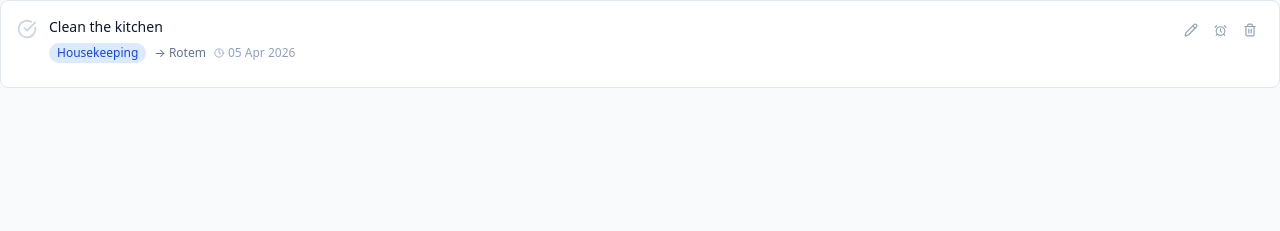
TaskCard › clicking snooze button opens dropdown with presets
Click the button named "Snooze task" at (1220, 30), box [1208,18,1233,42]
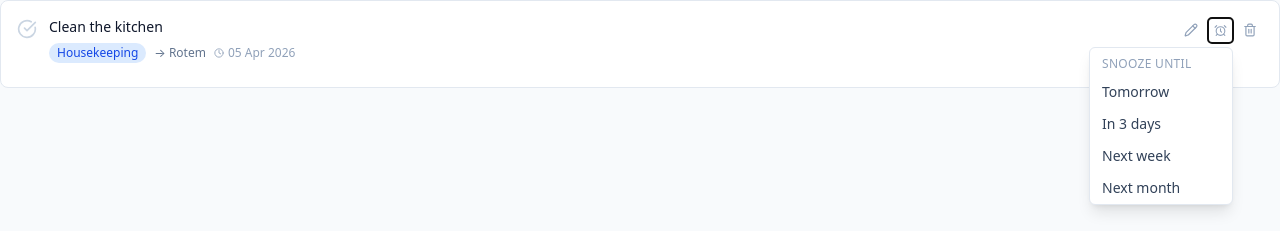
Expected: the button "Tomorrow" is shown, [1090,76,1232,108]
Expected: the button "In 3 days" is shown, [1090,108,1232,140]
Expected: the button "Next week" is shown, [1090,140,1232,172]
